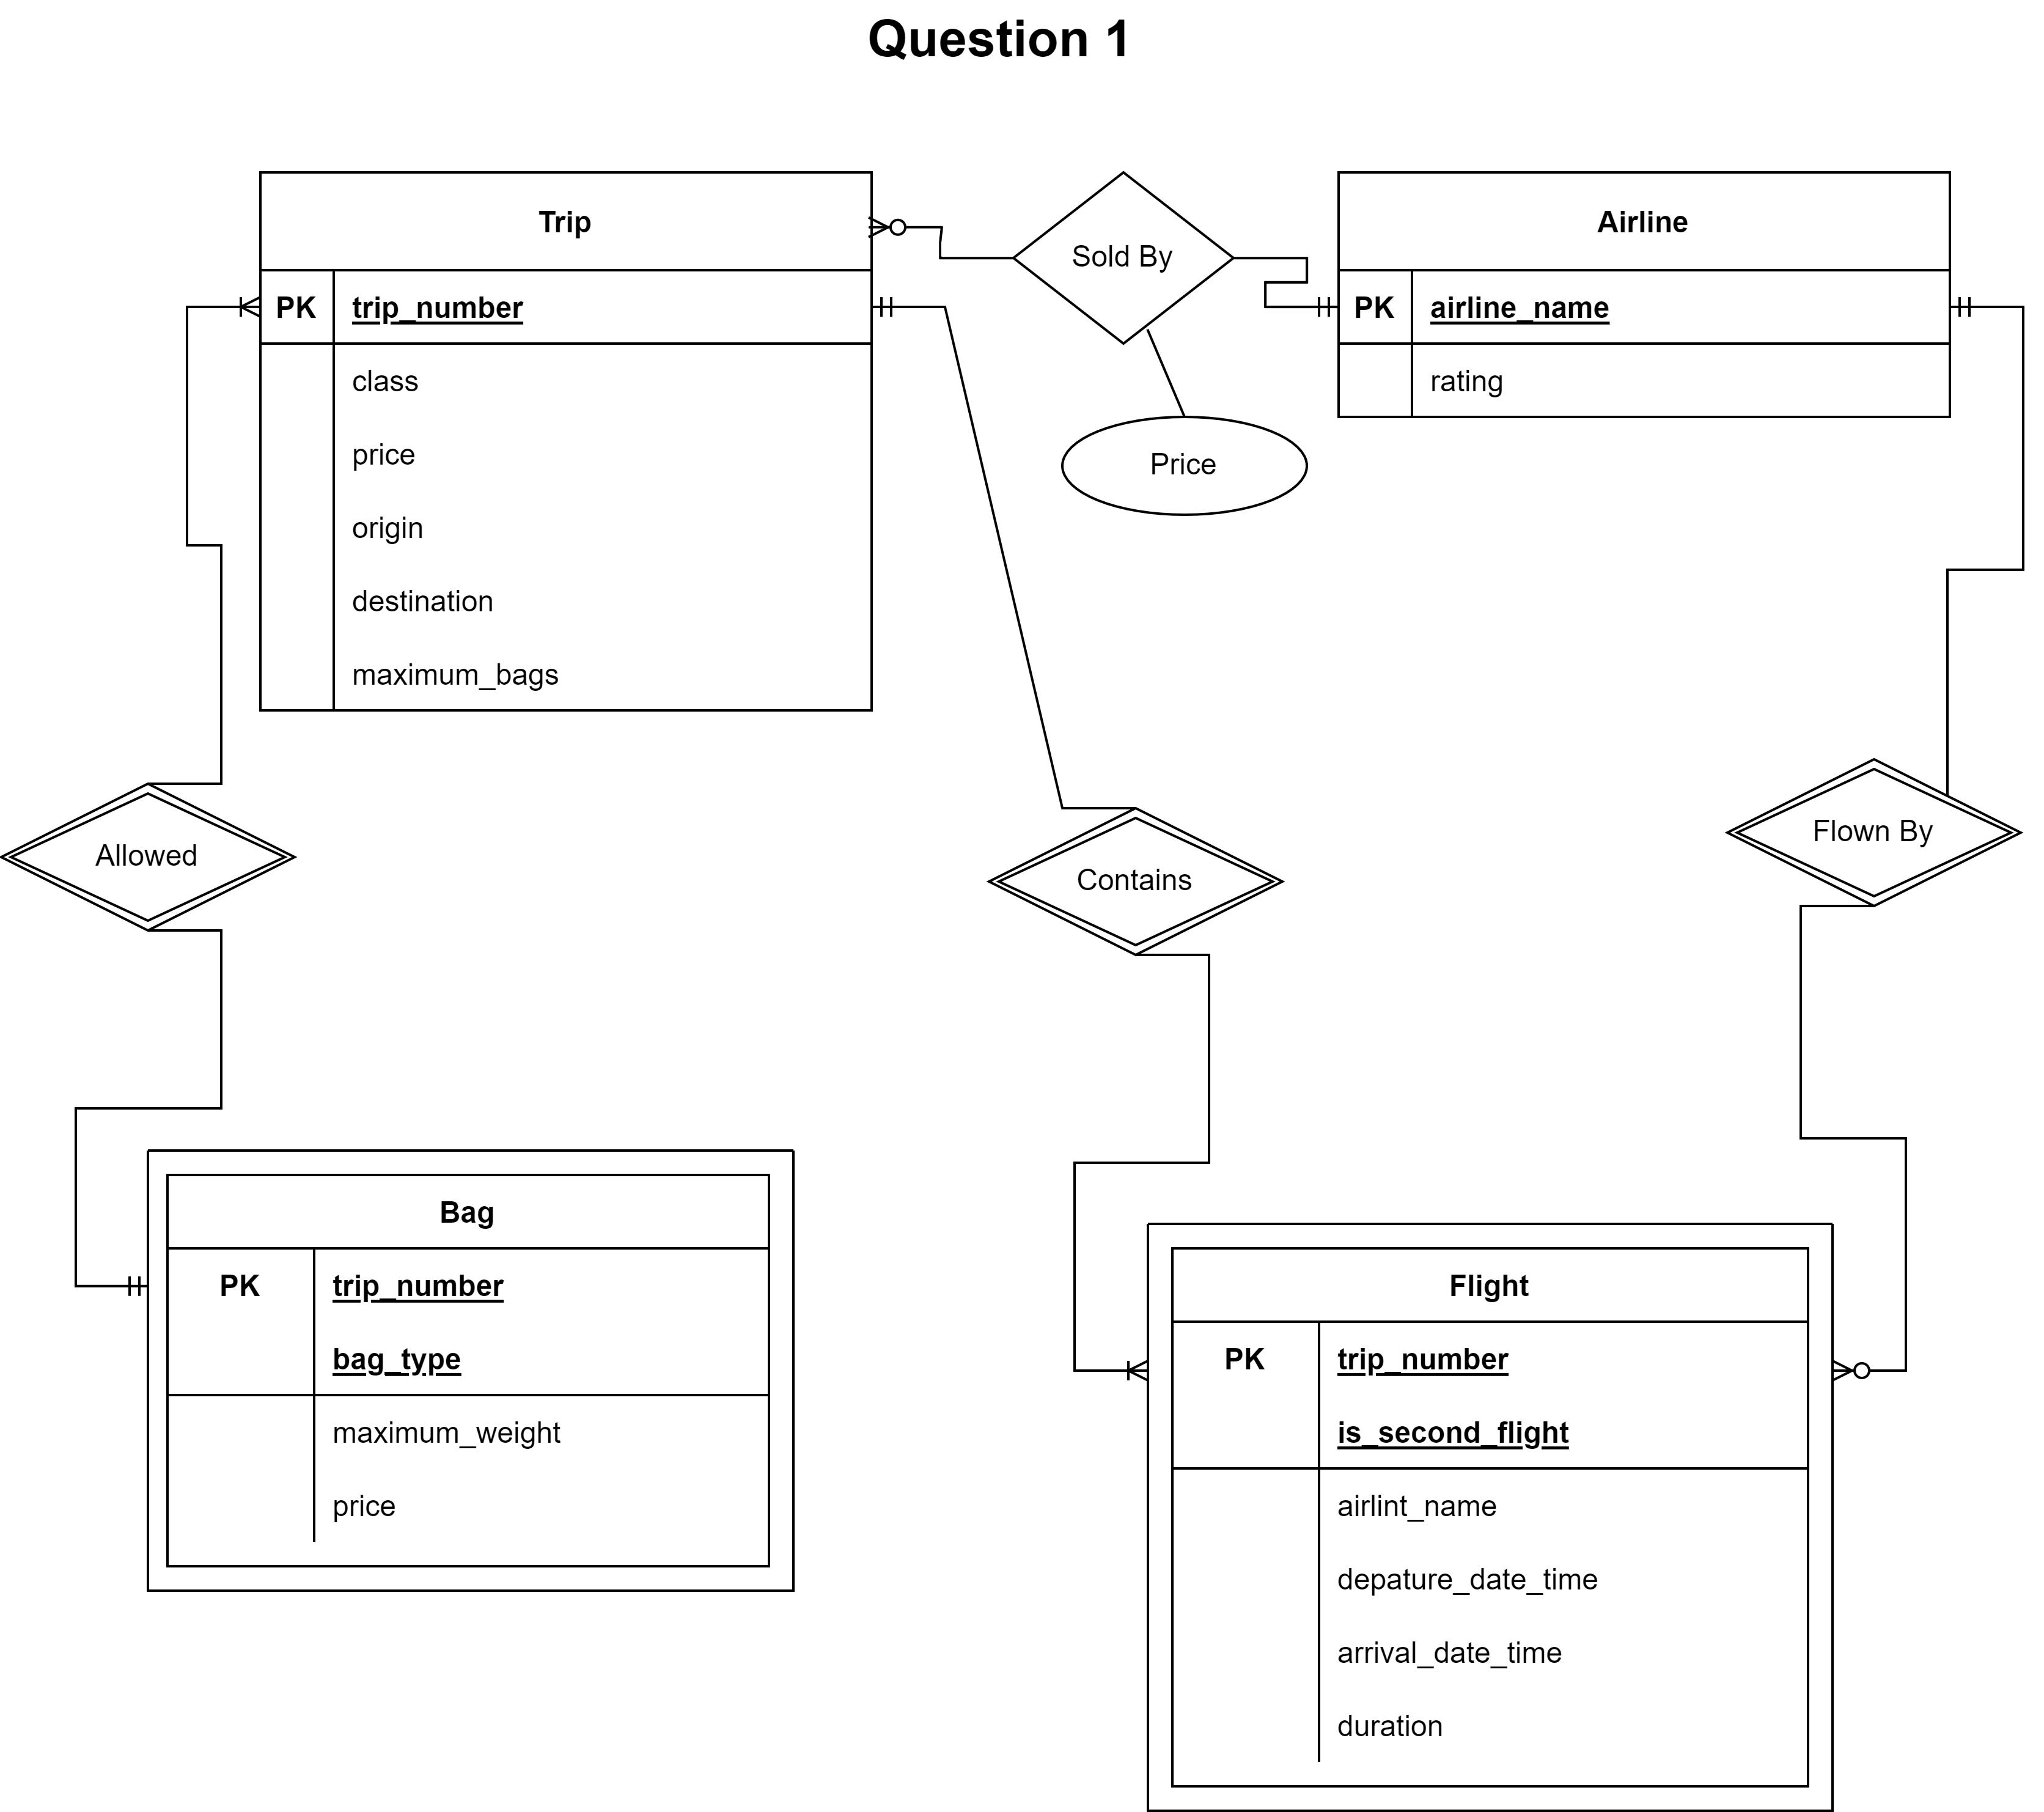attribute: (1061, 416, 1311, 518)
entity: (254, 163, 873, 717), (1334, 164, 1958, 423)
relationship: (1007, 173, 1236, 341)
weakentity: (1140, 1217, 1832, 1812), (142, 1144, 797, 1595)
weakrelationship: (1722, 756, 2021, 906), (0, 780, 294, 932), (988, 808, 1287, 953)
